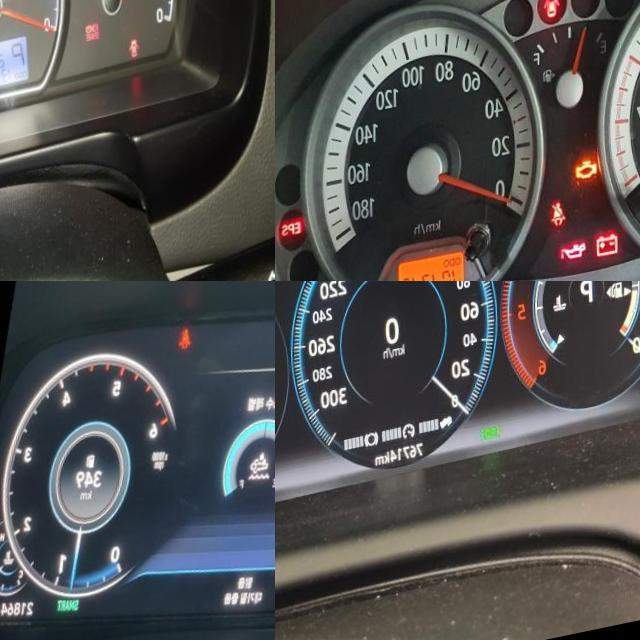Doors: (128, 56, 138, 76)
SideLamp: (479, 441, 499, 461)
